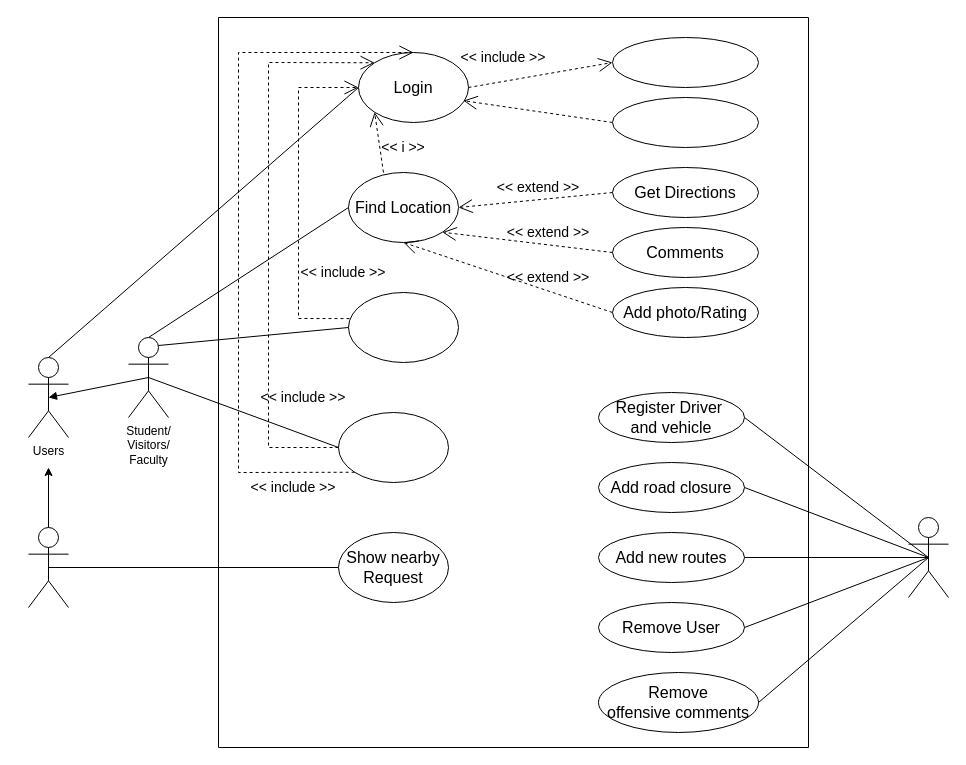
The diagram is 966 pixels wide and 765 high, and some of its shapes have lost their labels. The shapes that lost their labels are listed below. From the top down, each one's centre as x and y in pixels, then its label:
At pixel 685 62: "Authentication".
At pixel 685 122: "Invalid Credentials".
At pixel 403 327: "Check Nearby Rickshaws".
At pixel 393 447: "Request Ride".
At pixel 48 567: "E-Rickshaw Drivers".
At pixel 928 557: "Admin".
